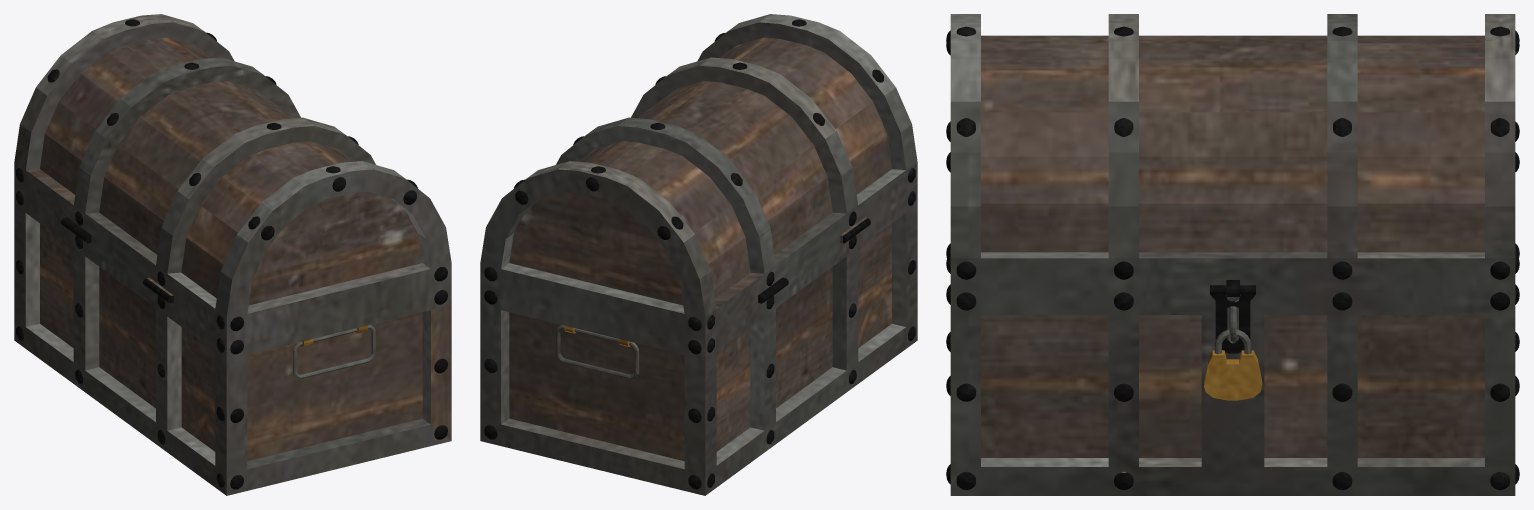
The model's file is chest.obj.
3 views of the same model, side by side, from view 1: azimuth 30°, elevation 25°; view 2: azimuth 150°, elevation 25°; view 3: azimuth 270°, elevation 25° (orthographic). The views are drawn at different scales.
Parts seen in each view (by area): view 1: Chest; view 2: Chest; view 3: Chest.
Part boxes in pixels (x1,y1,x2,y2): Chest: (14,14,451,495); Chest: (480,14,917,495); Chest: (946,14,1519,495).
Size of the model in its own units: 0.5726 by 0.6496 by 0.8556.
